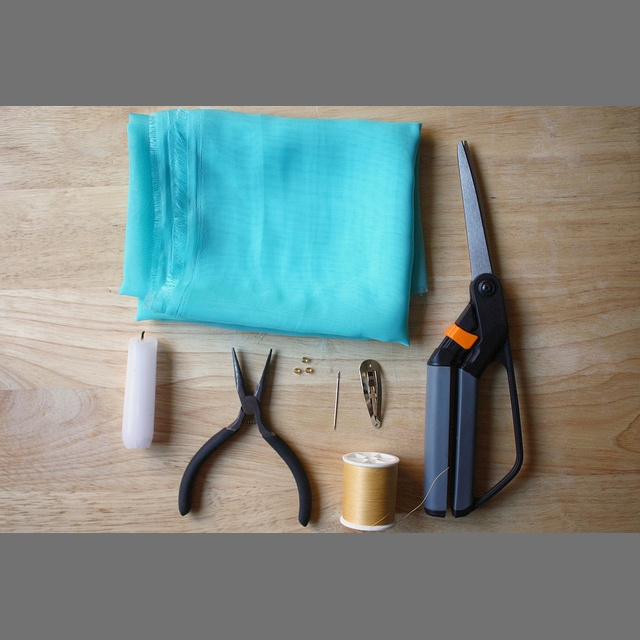scissor: (422, 140, 524, 519)
